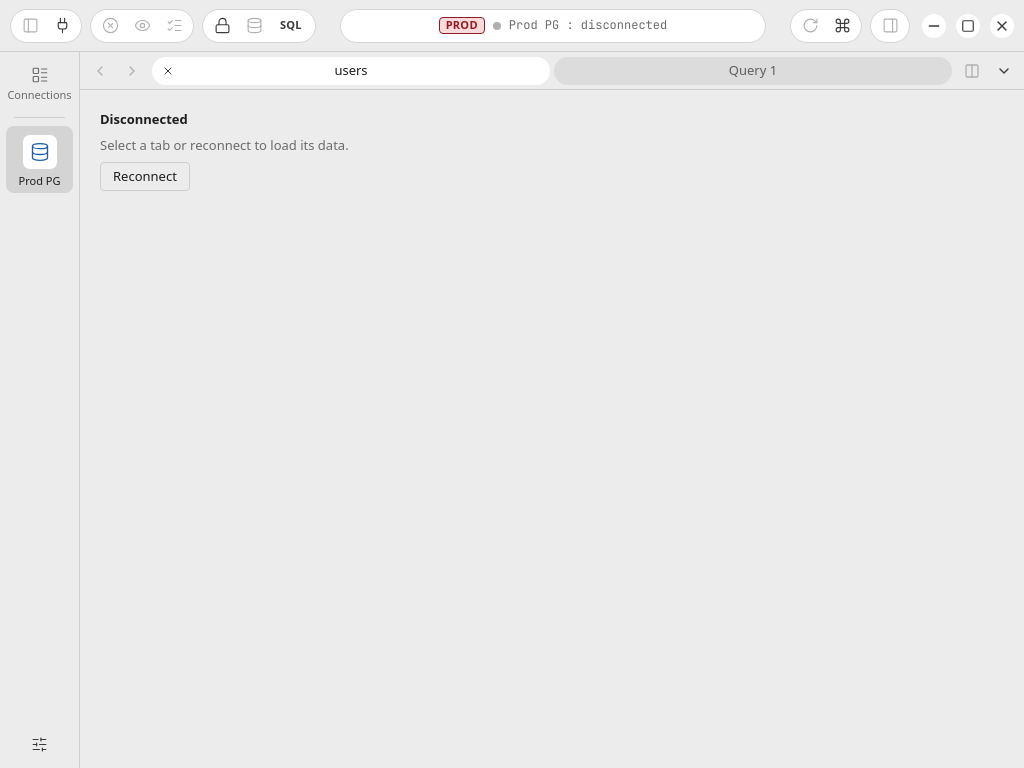
Test: an SSH workspace asks to trust an unknown host key on activation; cancel keeps it
The width and height of the screenshot is (1024, 768).
Click the tab "users". click: (351, 70)
box: [152,56,550,84]
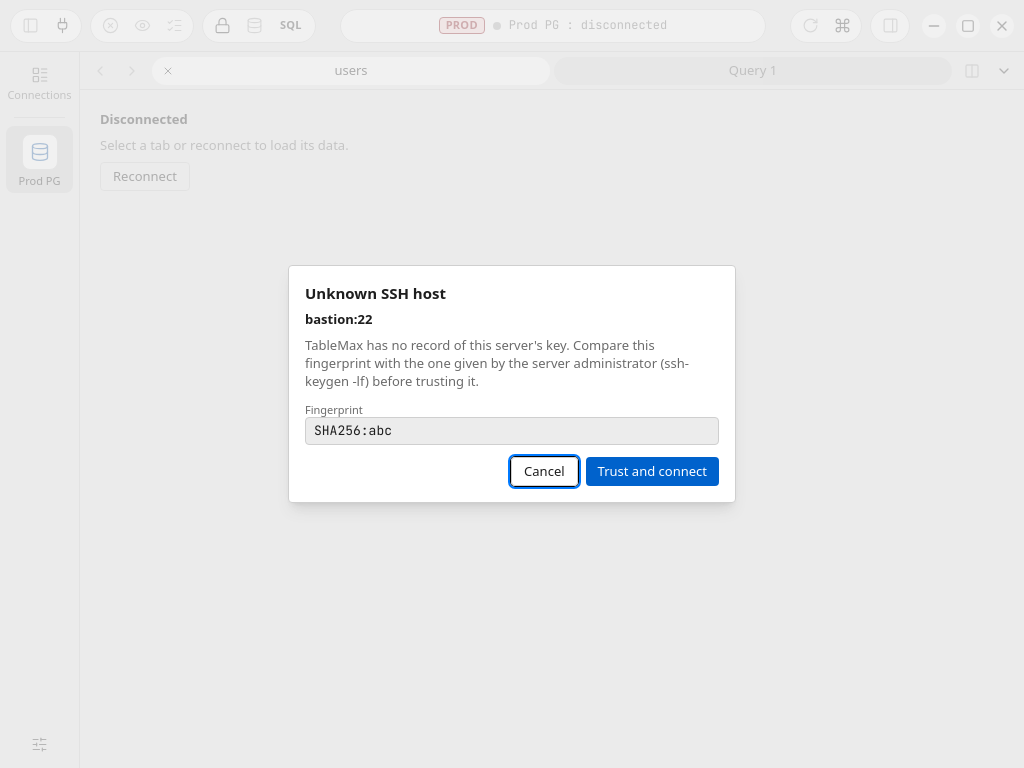
Click the button "Cancel". click: (544, 472)
box: [511,457,578,486]
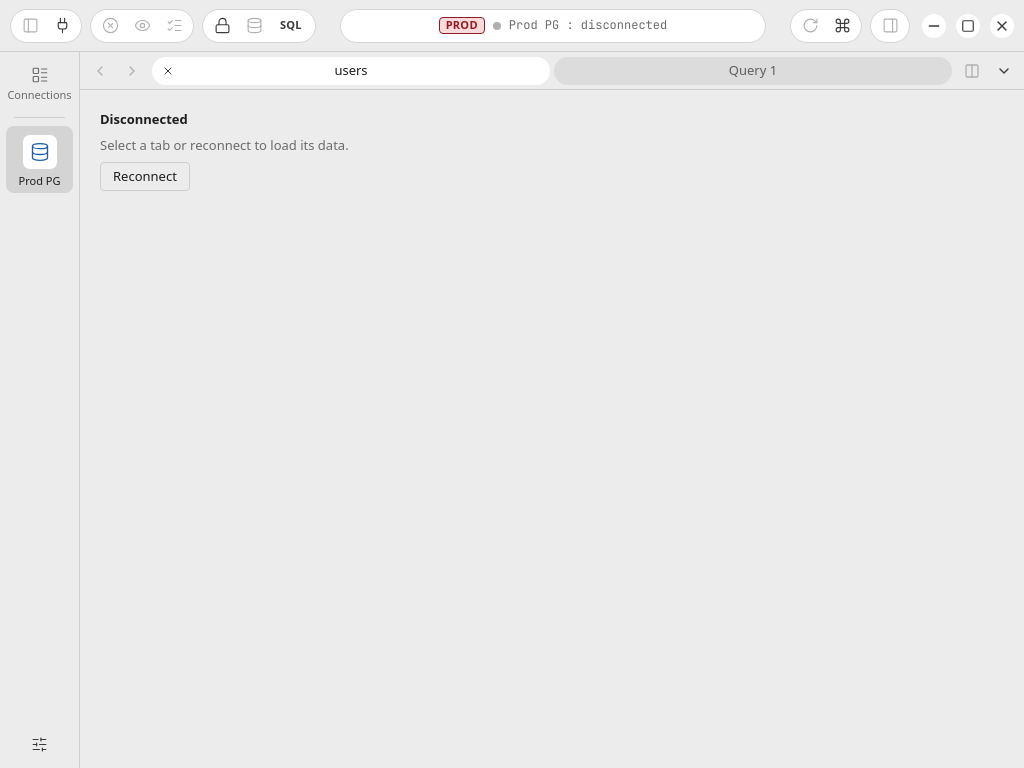
Expected: the button "Reconnect" is shown, [100,162,190,191]
Expected: the dialog is gone
